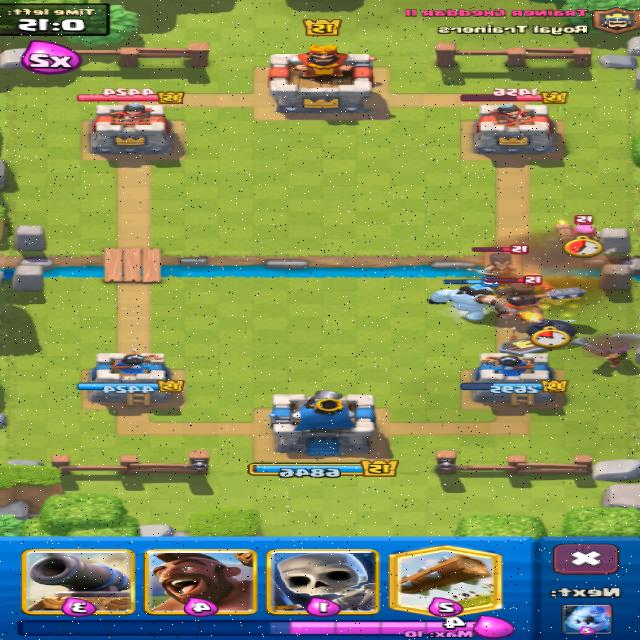Enemy-Bomb: (527, 319, 577, 348)
Enemy-DarkPrince: (485, 275, 586, 322)
Enemy-Firecracker: (556, 215, 597, 242)
Enemy-KingTower: (269, 45, 374, 114)
Enemy-NightWitch: (469, 245, 529, 276)
Enemy-PrincessTower: (89, 102, 176, 159), (474, 104, 557, 157)
Player-IceGolem: (430, 286, 494, 319)
Player-KingTower-Activated: (271, 390, 376, 456)
Player-Musketeer: (573, 337, 627, 367)
Player-PrincessTower: (78, 350, 184, 405), (461, 353, 567, 406)
